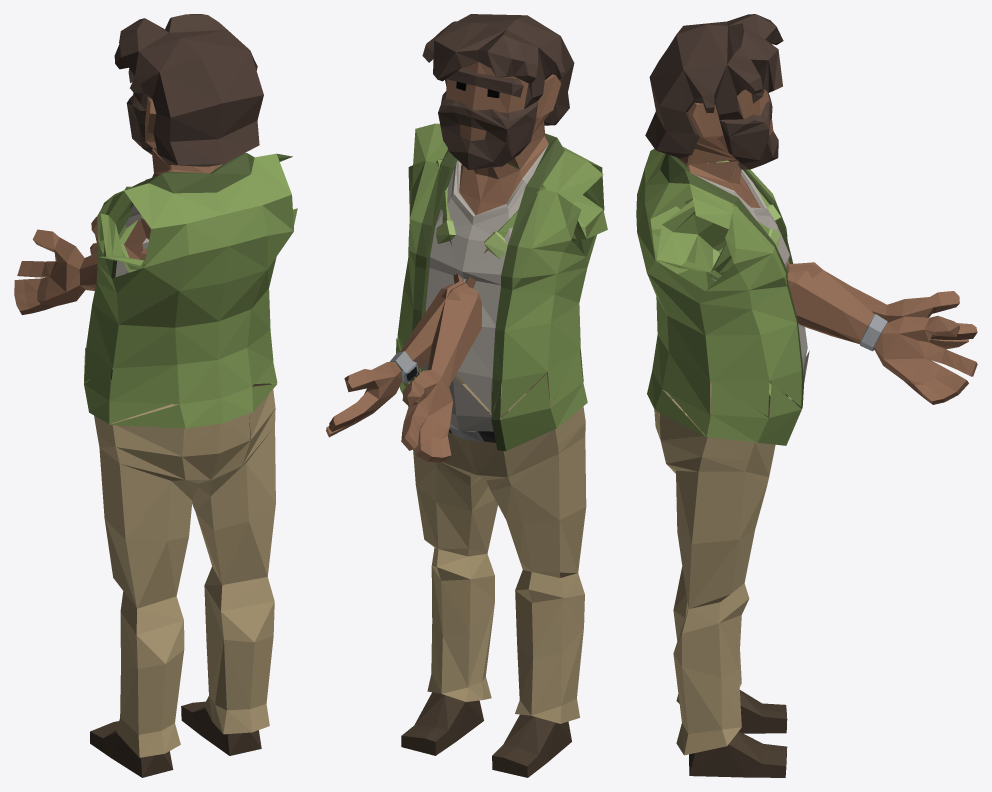
Rendered from God.obj.
The picture shows the model from 3 angles, left to right: view 1: azimuth 30°, elevation 25°; view 2: azimuth 150°, elevation 25°; view 3: azimuth 270°, elevation 25°; orthographic projection.
Visible parts, largest first — view 1: God; view 2: God; view 3: God.
Part boxes in pixels (x1,y1,x2,y2): God: (14, 14, 297, 777); God: (326, 14, 607, 777); God: (636, 14, 977, 777).
Bounding box in the file's own units: 0.5267 × 1.83 × 0.7841.
Materials: 1 (1 with a texture image).
